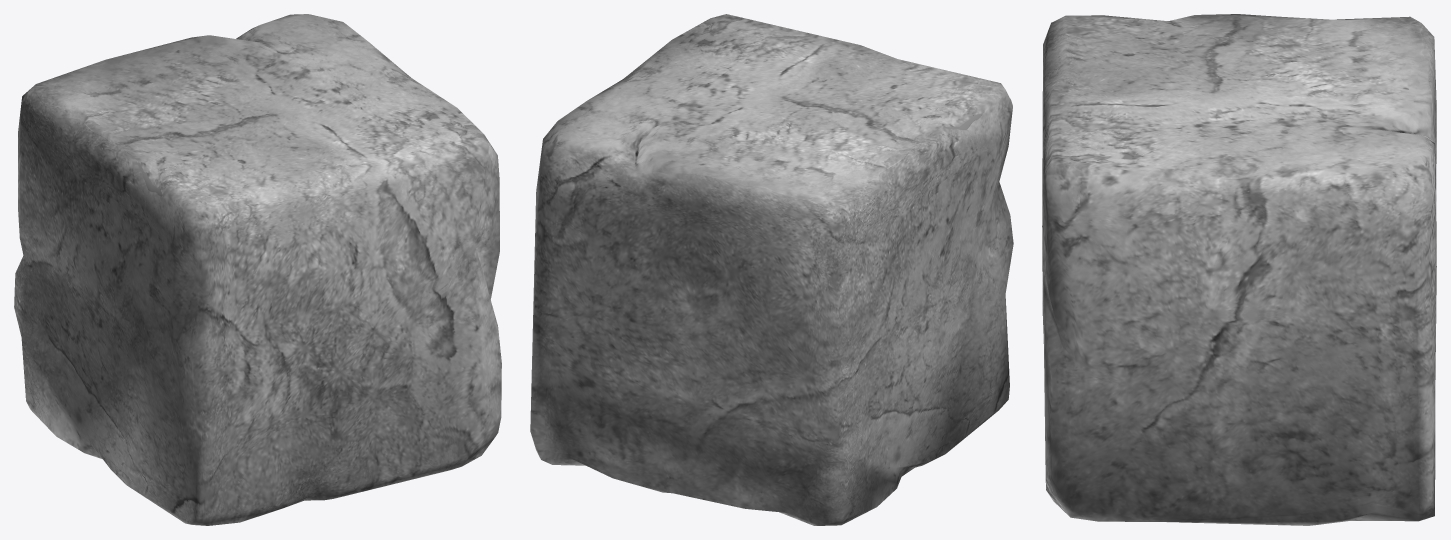
The model's file is Slab.FBX.
3 views of the same model, side by side, from view 1: azimuth 30°, elevation 25°; view 2: azimuth 150°, elevation 25°; view 3: azimuth 270°, elevation 25° (orthographic). The views are drawn at different scales.
Parts seen in each view (by area): view 1: Slab002; view 2: Slab002; view 3: Slab002.
Part boxes in pixels (x1,y1,x2,y2): Slab002: (14, 14, 501, 525); Slab002: (530, 14, 1013, 525); Slab002: (1042, 14, 1436, 525).
Size of the model in its own units: 49.87 by 50.03 by 50.22.
